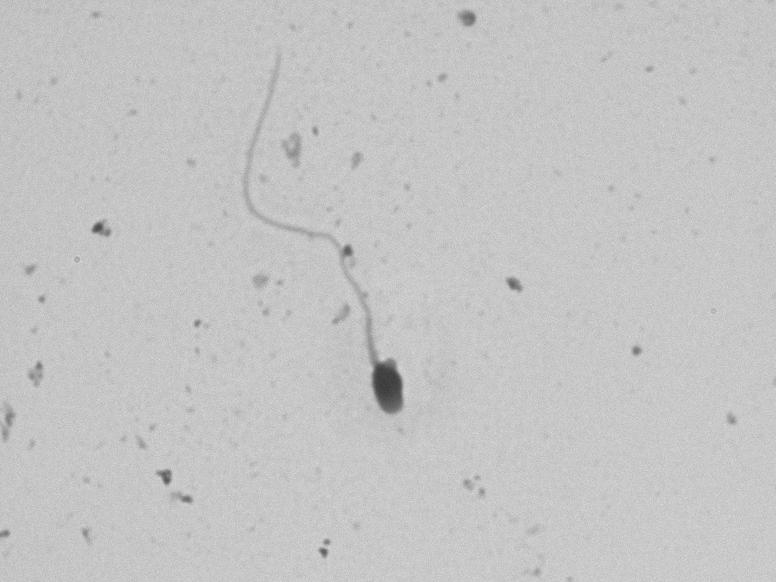Abnormal: (222, 36, 427, 435)
